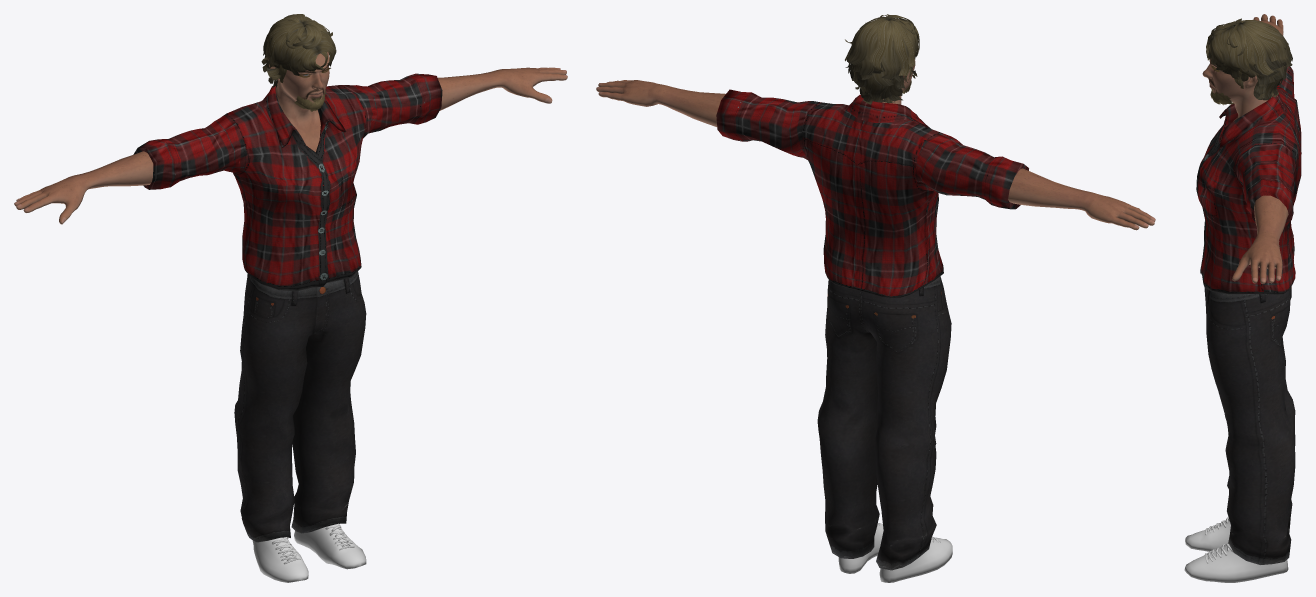
The model's file is likFuse.obj.
3 renders of one model, left to right at view 1: azimuth 30°, elevation 25°; view 2: azimuth 150°, elevation 25°; view 3: azimuth 270°, elevation 25°, orthographic.
Parts seen in each view (by area): view 1: Tops, Bottoms, Body, Shoes, Hair; view 2: Bottoms, Tops, Body, Hair, Shoes; view 3: Bottoms, Tops, Hair, Body, Shoes, Beards.
Boxes of the visible parts, x1,y1,x2,y2 form: Tops: (133,73,442,291); Bottoms: (234,271,366,542); Body: (14,52,567,224); Shoes: (252,523,366,582); Hair: (261,14,336,88); Bottoms: (817,276,951,570); Tops: (716,89,1028,297); Body: (596,59,1155,230); Hair: (845,14,919,104); Shoes: (838,523,952,582); Bottoms: (1204,286,1295,564); Tops: (1196,66,1301,294); Hair: (1206,18,1292,100); Body: (1202,14,1288,283); Shoes: (1184,517,1288,582); Beards: (1210,88,1234,105).
Bounding box in the file's own units: 196 × 183 × 35.96.
